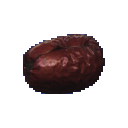ng: (15, 27, 112, 102)
